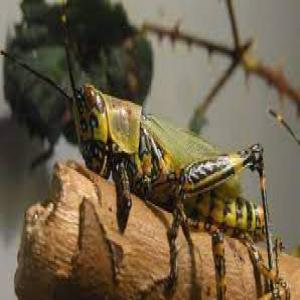locust: (53, 39, 272, 266)
